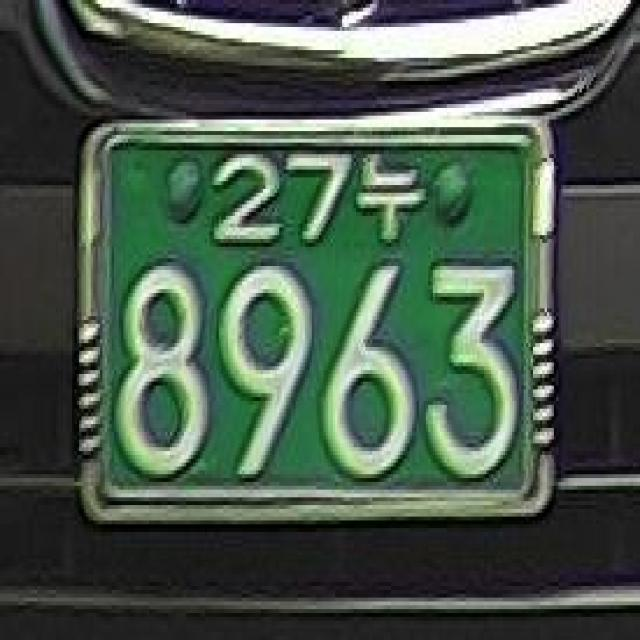illegal_plate: (66, 102, 563, 550)
